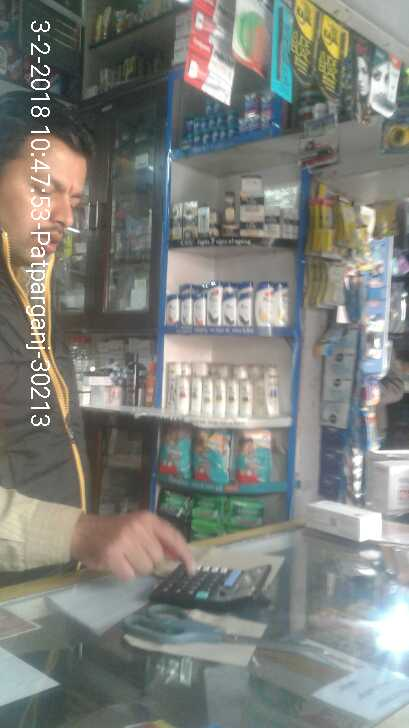beauty: (265, 369, 279, 416), (256, 285, 272, 326), (274, 284, 287, 326), (207, 288, 221, 326), (241, 176, 266, 197), (177, 377, 190, 416), (241, 198, 264, 220), (192, 291, 206, 325), (213, 381, 226, 417), (239, 381, 251, 416), (226, 383, 238, 417), (238, 293, 250, 326), (223, 294, 235, 326), (167, 294, 179, 325), (180, 293, 192, 324), (202, 380, 212, 417), (191, 379, 201, 415), (240, 222, 265, 236)
pharmacy: (194, 431, 227, 483), (236, 435, 272, 482), (162, 424, 192, 479), (186, 116, 234, 143), (229, 502, 265, 528), (192, 497, 225, 523), (162, 491, 189, 519), (244, 96, 258, 110), (261, 96, 272, 108)
